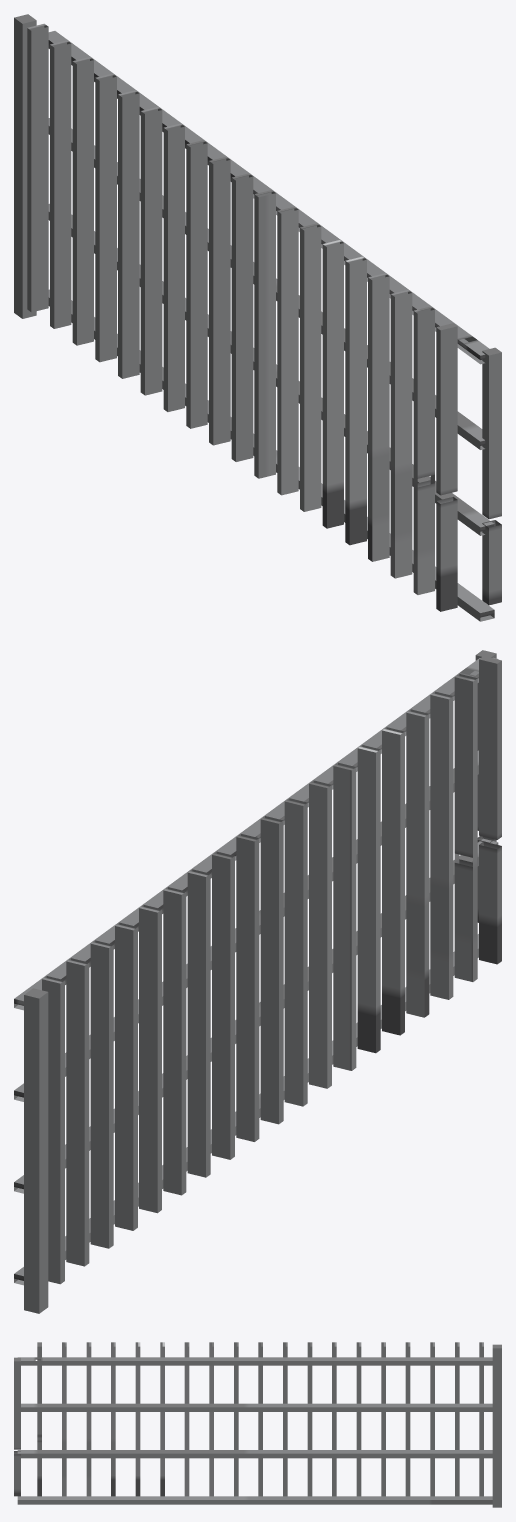
3 views of the same model, one above another, from view 1: azimuth 30°, elevation 25°; view 2: azimuth 150°, elevation 25°; view 3: azimuth 270°, elevation 25° (orthographic). The views are drawn at different scales.
Size of the model in its own units: 0.131 by 0.9372 by 2.58.
